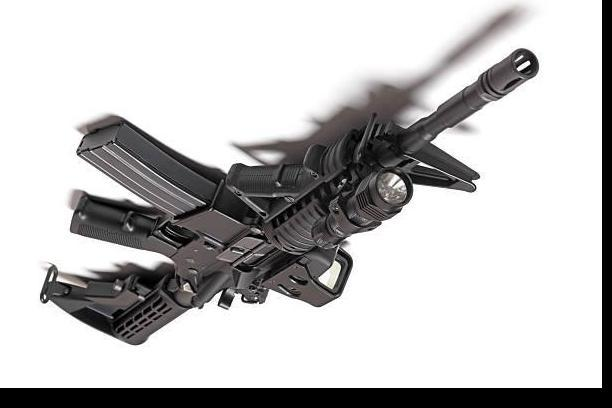larga: (40, 48, 540, 346)
